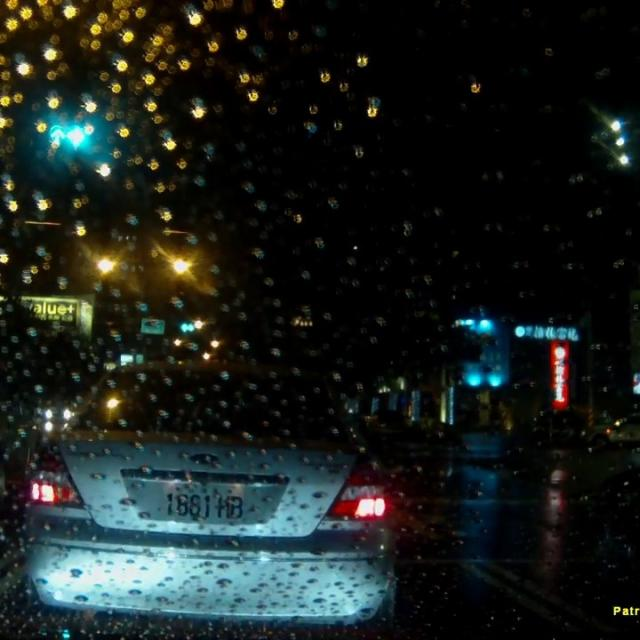Car: (23, 355, 393, 624), (577, 409, 639, 454)
